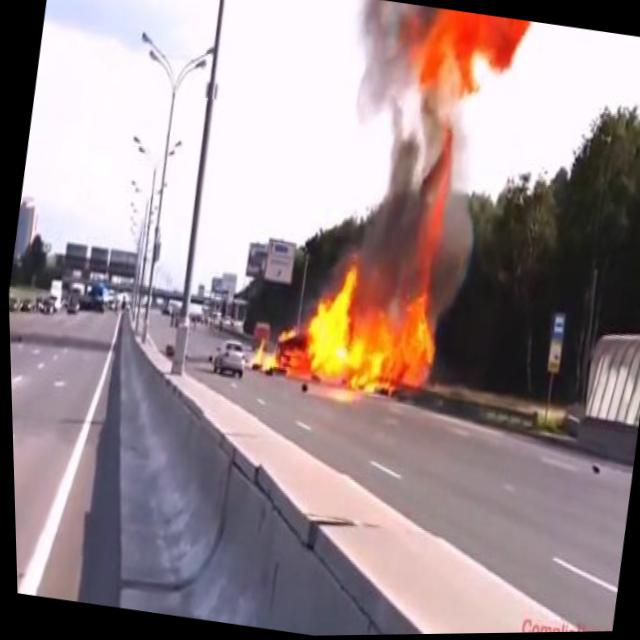fire: (287, 242, 466, 404), (397, 5, 533, 120), (394, 115, 462, 262), (248, 332, 279, 376)
